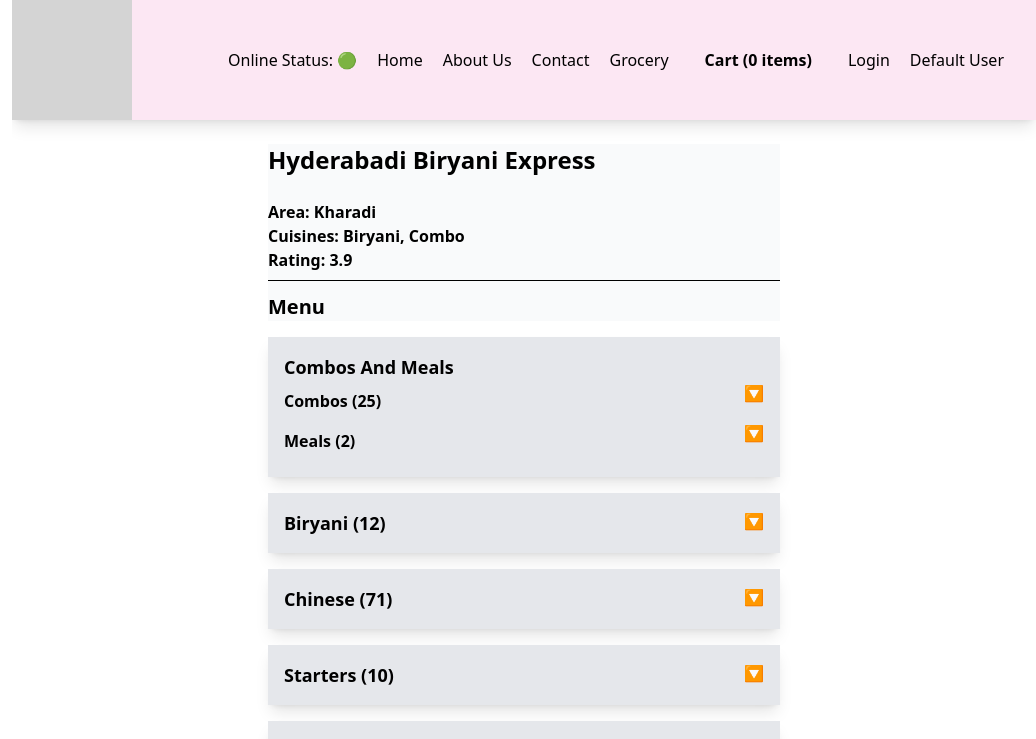
Should load restaurant menu component
Click the text "Biryani (12)": (335, 523) [284, 509, 386, 537]
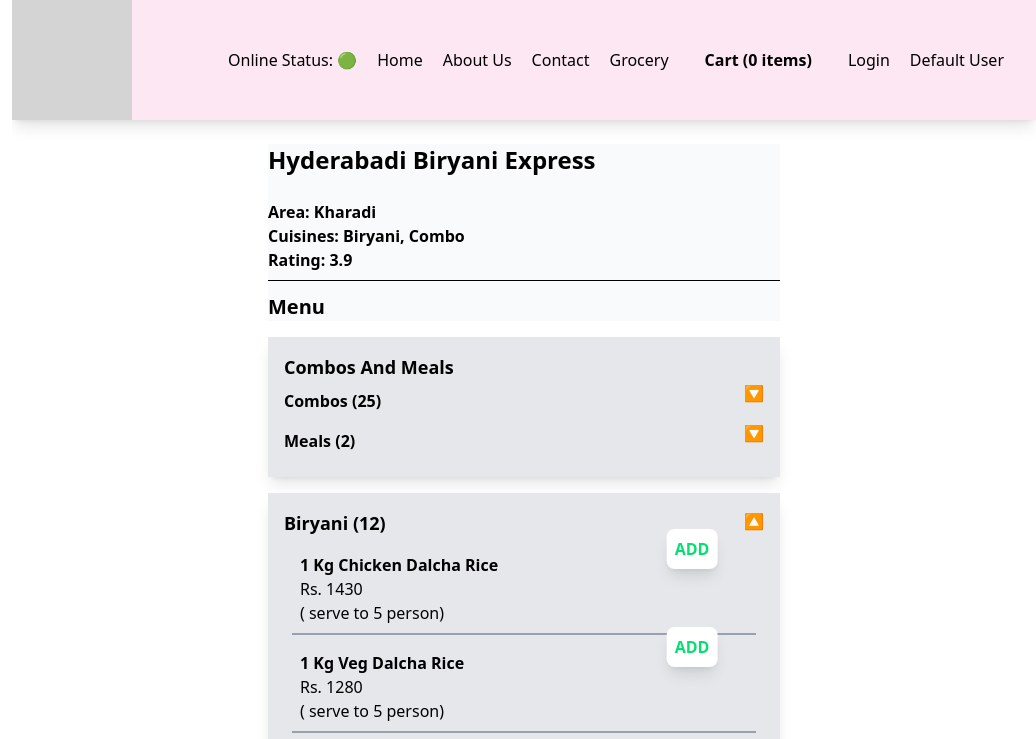
Expected: the link "Cart (0 items)" is shown, [705, 49, 812, 71]
Expected: the number of elements with test id "foodItem" is 12
Click the button "ADD" in the row of "1 Kg Chicken Dalcha Rice": (692, 549) [667, 529, 717, 569]
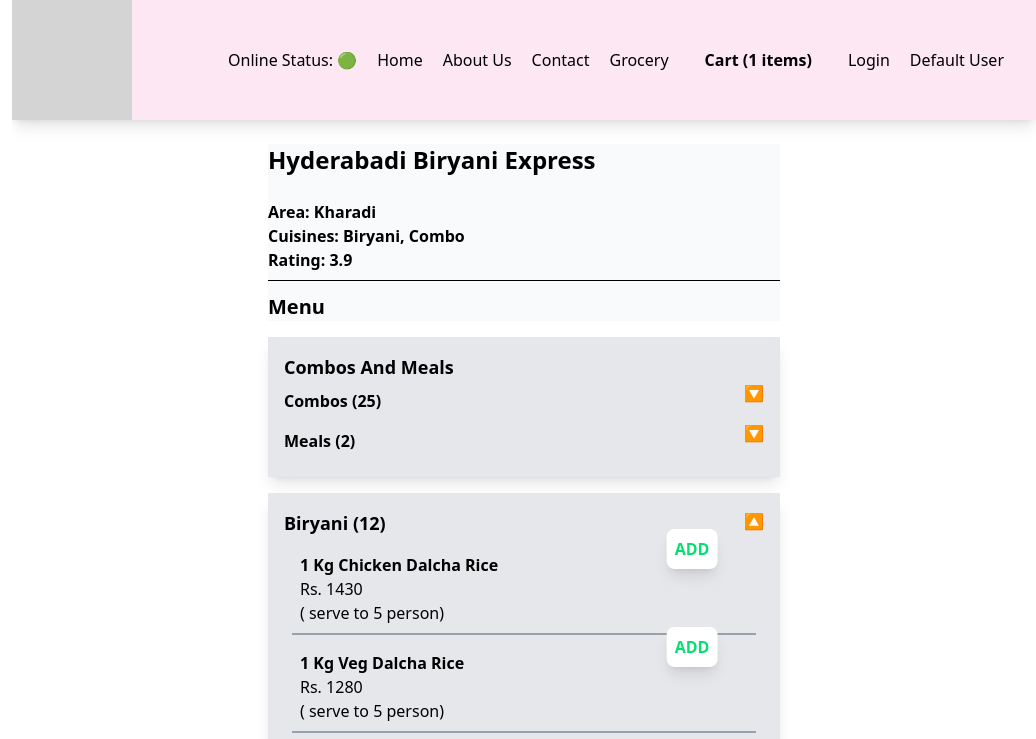
Expected: the link "Cart (1 items)" is shown, [705, 49, 812, 71]
Click the button "ADD" in the row of "1 Kg Veg Dalcha Rice": (692, 647) [667, 627, 717, 667]
(page scrolled)
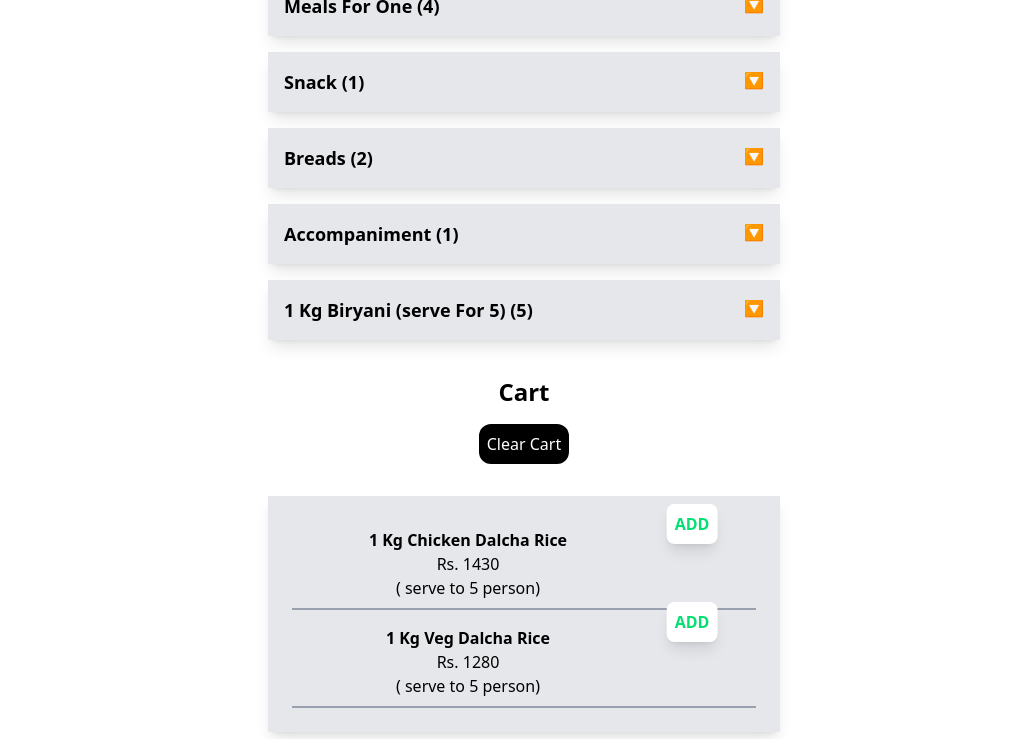
Click the button "Clear Cart": (524, 444) [479, 424, 569, 464]
(page scrolled)
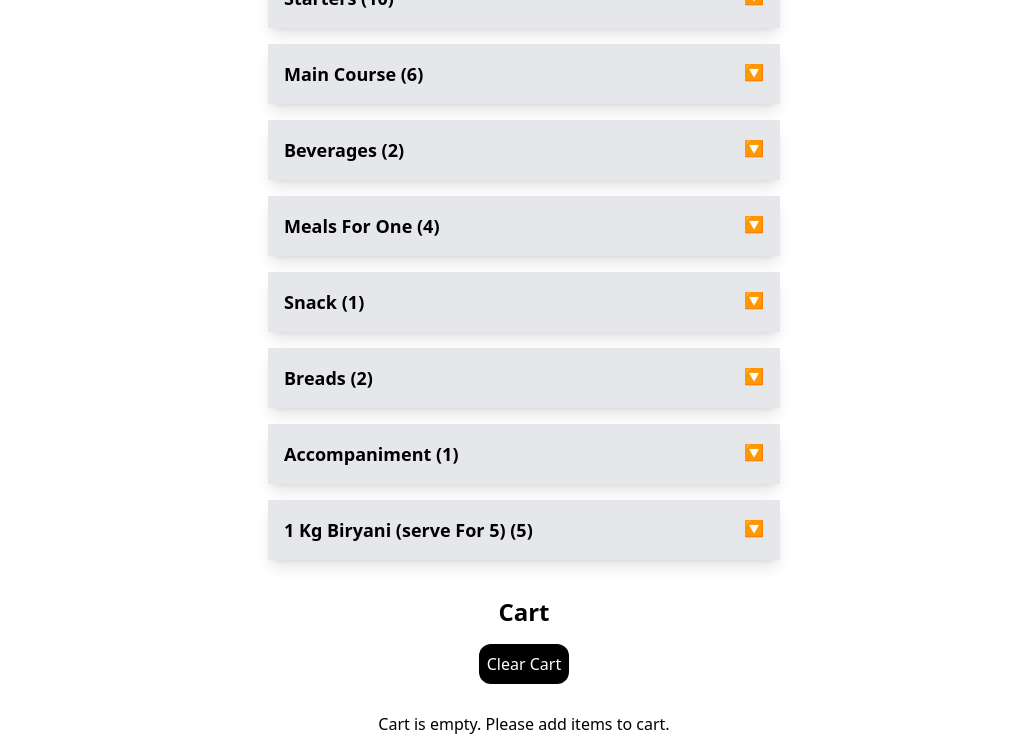
Expected: the heading "Cart is empty. Please add items to cart." is shown, [378, 713, 670, 735]
